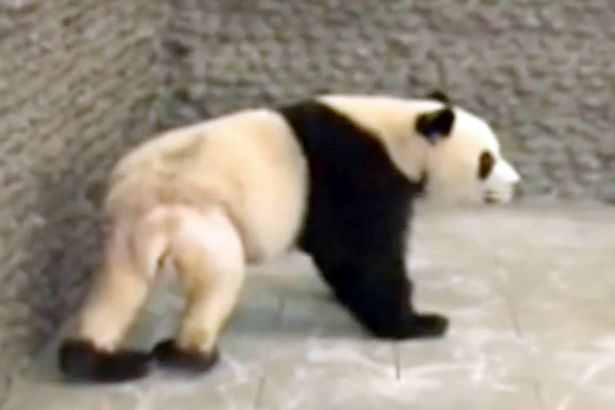panda: (72, 51, 535, 383)
